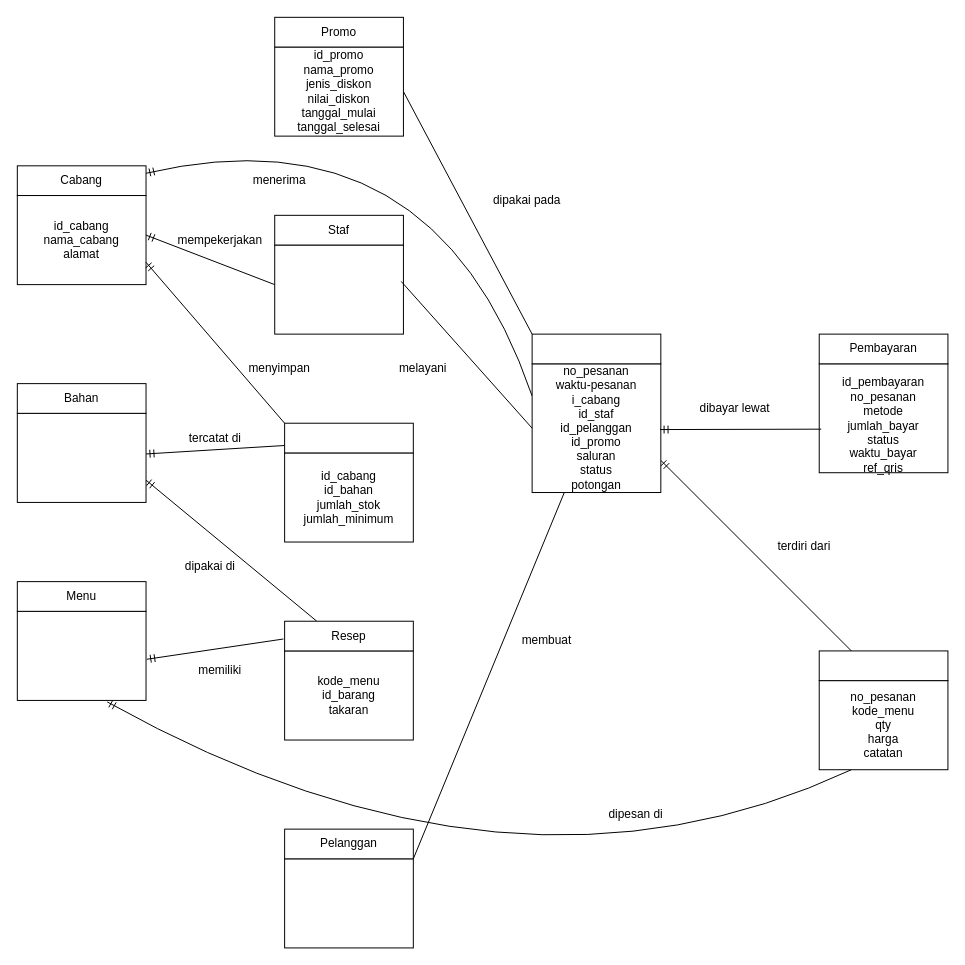
The diagram is 965 pixels wide and 965 high, and some of its shapes have lost their labels. The centre of each missing label's shape, as x and y in pixels:
"detail_pesanan" goes at (x=883, y=665).
"id_bahan nama_bahan satuan" goes at (x=81, y=457).
"id_pelanggan nama_pelanggan no_hp kata_sandi_hash" goes at (x=348, y=903).
"id_staf id_cabang nama_staf email kata_sandi_hash peran" goes at (x=338, y=289).
"kode-menu nama_menu kategori harga aktif" goes at (x=81, y=655).
"Pesanan" goes at (x=596, y=348).
"stok_cabang" goes at (x=348, y=437).
